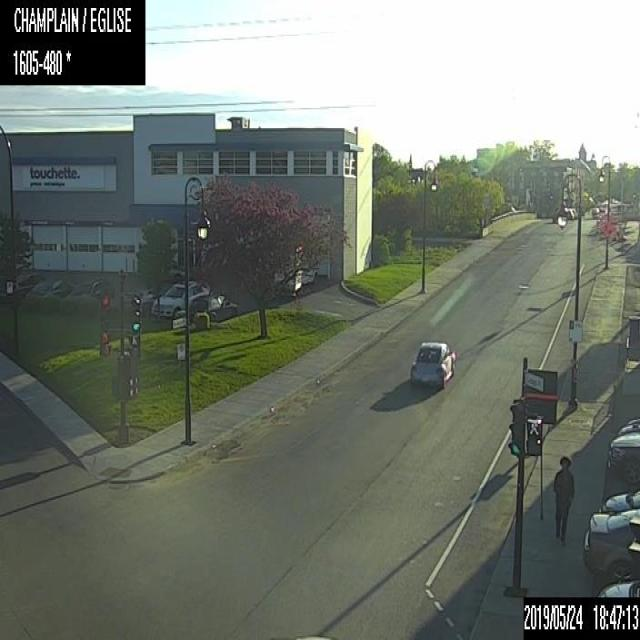construction: (602, 221, 612, 235)
pedestrian: (552, 456, 574, 545)
vehicle: (582, 508, 639, 582), (274, 245, 318, 296), (151, 281, 208, 317), (409, 340, 454, 385), (607, 431, 639, 484), (188, 292, 238, 320), (124, 283, 162, 312), (26, 276, 72, 298), (601, 488, 639, 514), (66, 277, 106, 299), (595, 579, 639, 596), (18, 271, 44, 297), (617, 415, 639, 433), (564, 208, 574, 219), (571, 209, 576, 218)
